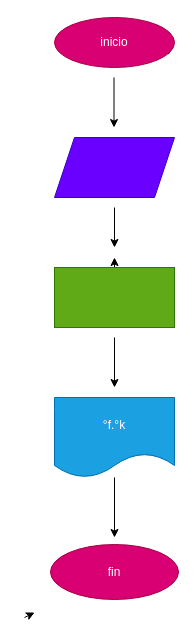
Image size: 196x643. Some labels were removed from this diagram. The shapes that lost their labels are listed below. From the top down, each one's centre as x and y in pixels, then its label:
point (114, 167): °C
point (114, 297): °K=°C-273.15 °I=°C*1.8+32
